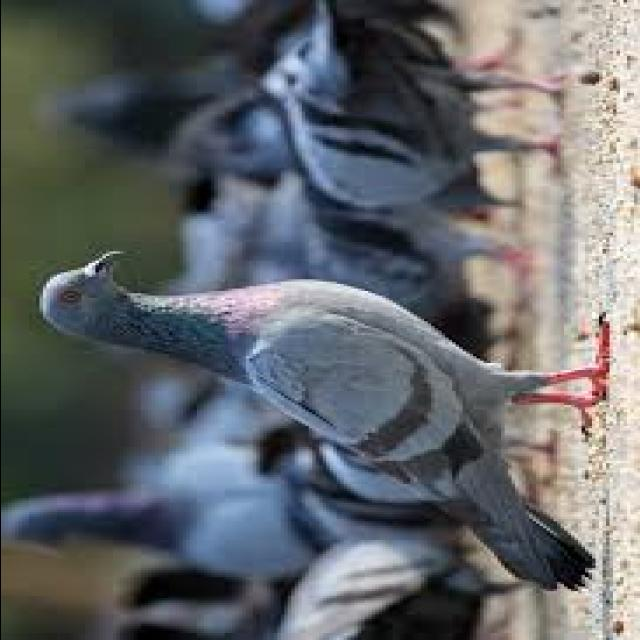pigeon: (26, 246, 628, 590)
